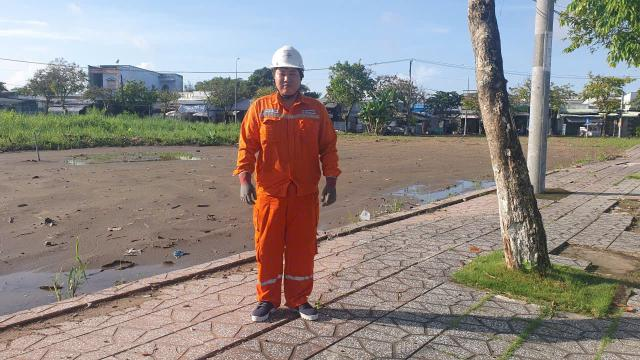gloves: (226, 166, 264, 210), (316, 174, 342, 210)
helmet: (261, 34, 312, 74)
shoes: (237, 289, 278, 326), (286, 296, 330, 328)
